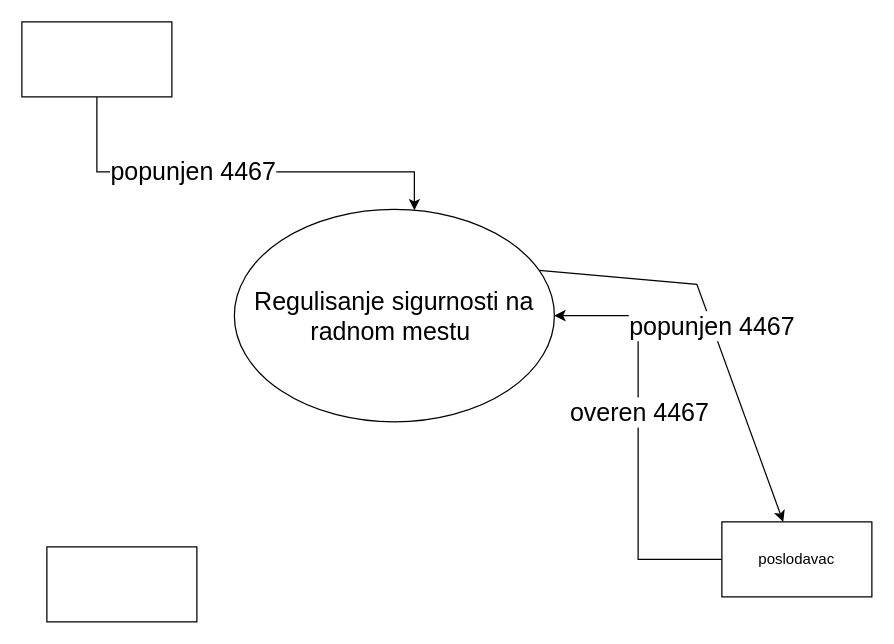
Image size: 894x644. Some labels were removed from this diagram. Each missing label, with the centre of its shape:
"lice za bezbednost" goes at (96,59).
"zaposleni" goes at (121,584).
